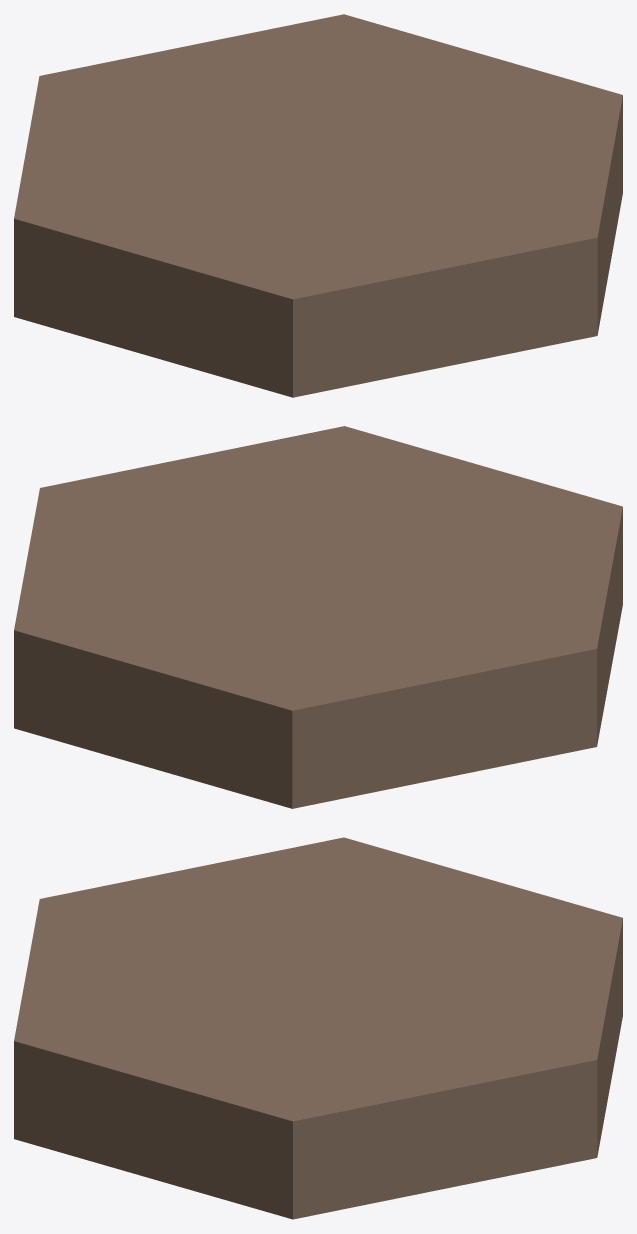
File: SM_Item_Coins_04.glb
3 renders of one model, top to bottom at view 1: azimuth 30°, elevation 25°; view 2: azimuth 150°, elevation 25°; view 3: azimuth 270°, elevation 25°, orthographic.
Visible parts, largest first — view 1: SM_Item_Coins_04_00; view 2: SM_Item_Coins_04_00; view 3: SM_Item_Coins_04_00.
Part boxes in pixels (x1,y1,x2,y2): SM_Item_Coins_04_00: [14, 14, 622, 397]; SM_Item_Coins_04_00: [14, 426, 622, 808]; SM_Item_Coins_04_00: [14, 837, 622, 1219].
Size of the model in its own units: 0.0845 by 0.0136 by 0.0765.
1 material, 1 textured.
